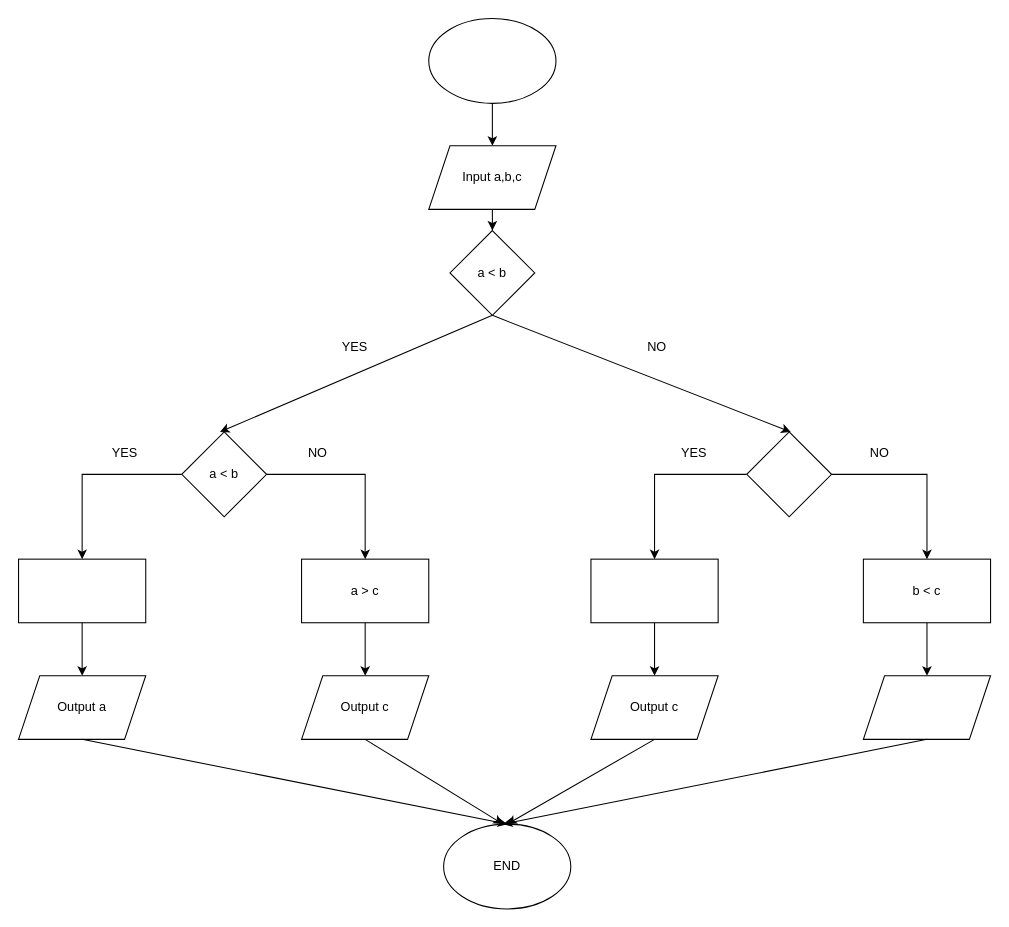
Image size: 1009x927. Some labels were removed from this diagram. Here are the shapes that lost their labels. From the top down, the centre of each, then its label:
the point at 492,60: START
the point at 789,474: a > b
the point at 81,590: a < c
the point at 654,590: b > c
the point at 926,707: Output b
